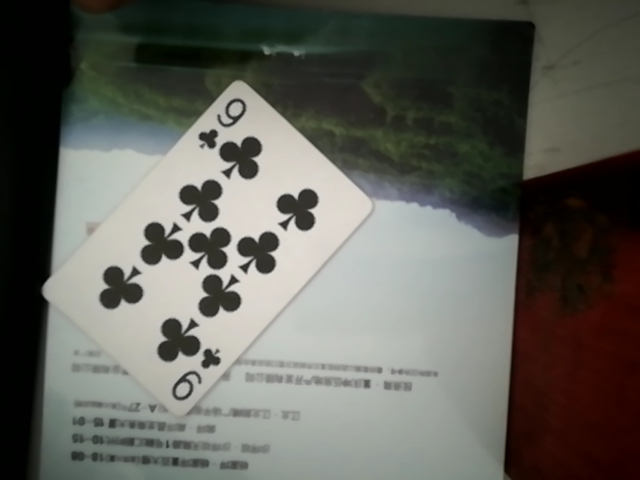mh 9: (62, 77, 372, 413)
